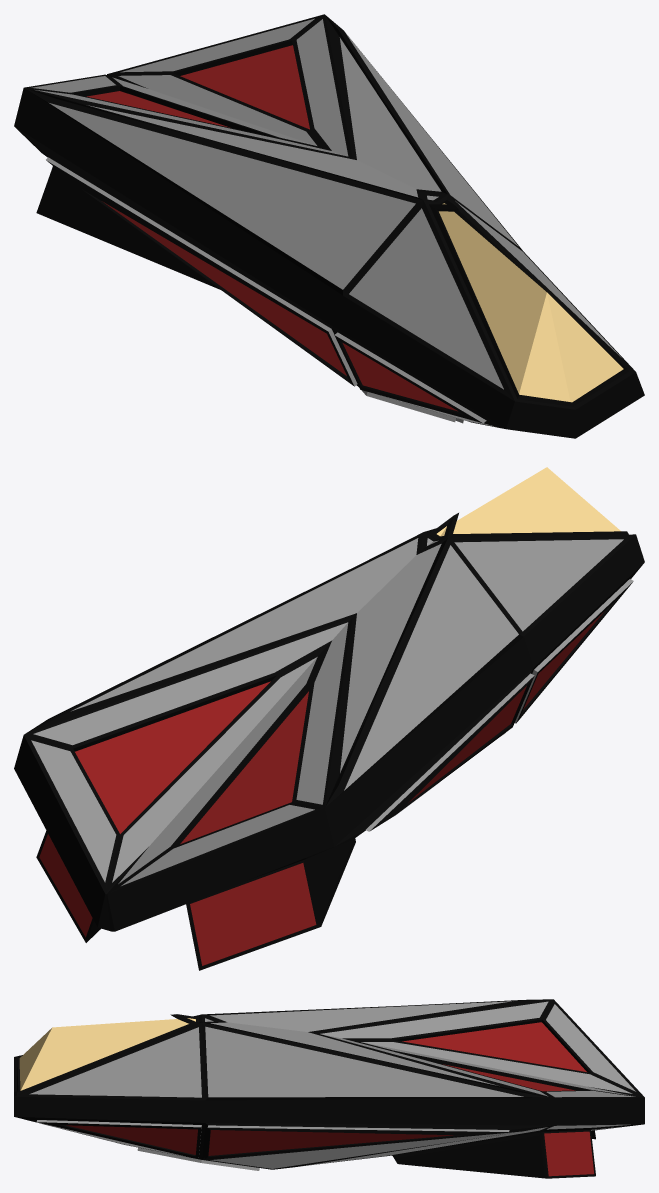
Rendered from Ship ai 2.FBX.
3 renders of one model, top to bottom at view 1: azimuth 30°, elevation 25°; view 2: azimuth 150°, elevation 25°; view 3: azimuth 270°, elevation 25°, orthographic. The views are drawn at different scales.
Parts seen in each view (by area): view 1: Box009; view 2: Box009; view 3: Box009.
Part boxes in pixels (x1,y1,x2,y2): Box009: (14, 14, 644, 438); Box009: (14, 467, 644, 970); Box009: (14, 999, 644, 1178).
Size of the model in its own units: 30.84 by 19.96 by 77.51.
